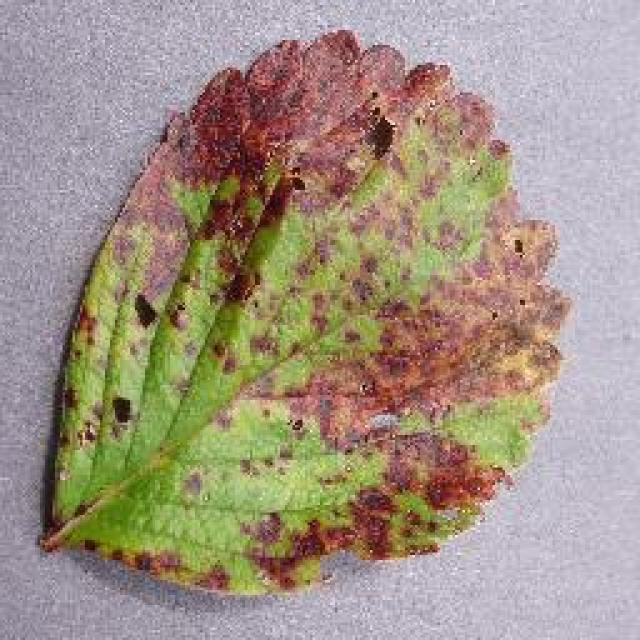Strawberry leaf scorch: (113, 42, 545, 543)
